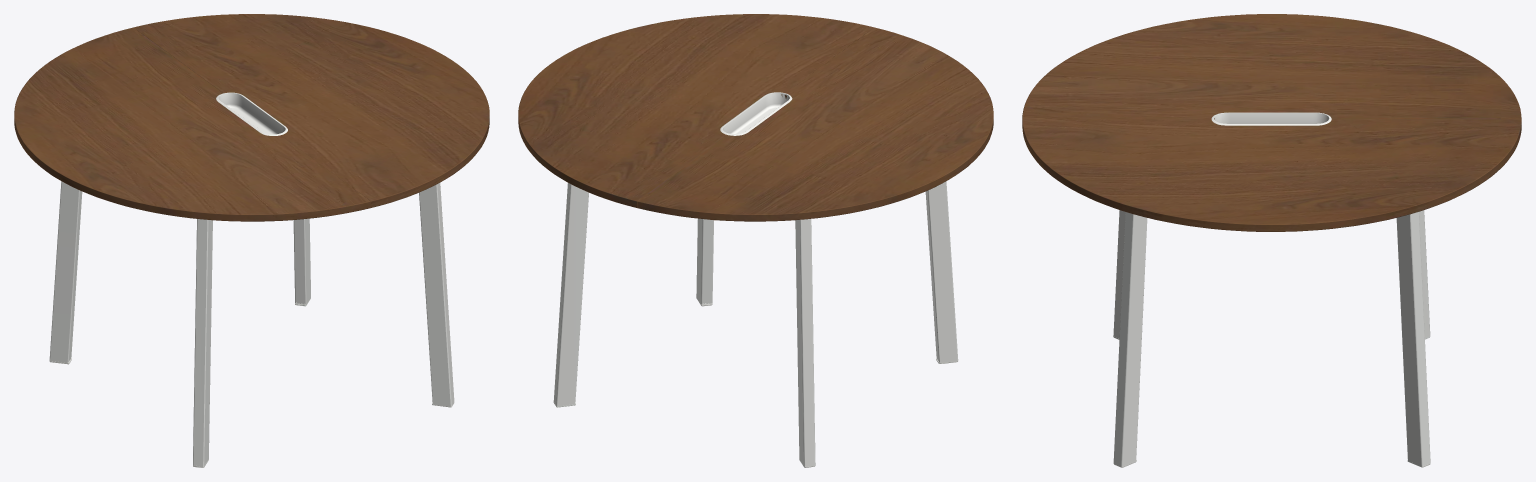
Rendered from 103 - MITTZON - 會議桌, 圓形 實木貼皮, 胡桃木白色, 120x75 公分 IKEA 線上購物.glb.
3 views of the same model, side by side, from view 1: azimuth 30°, elevation 25°; view 2: azimuth 150°, elevation 25°; view 3: azimuth 270°, elevation 25° (orthographic). The views are drawn at different scales.
Visible parts, largest first — view 1: 50527641_table_top:1; view 2: 50527641_table_top:1; view 3: 50527641_table_top:1.
Boxes of the visible parts, bbox=[...] form: 50527641_table_top:1: bbox=[14, 14, 489, 467]; 50527641_table_top:1: bbox=[518, 14, 993, 467]; 50527641_table_top:1: bbox=[1022, 14, 1521, 467].
Size of the model in its own units: 1.2 by 0.7498 by 1.2.
1 material, 1 textured.
